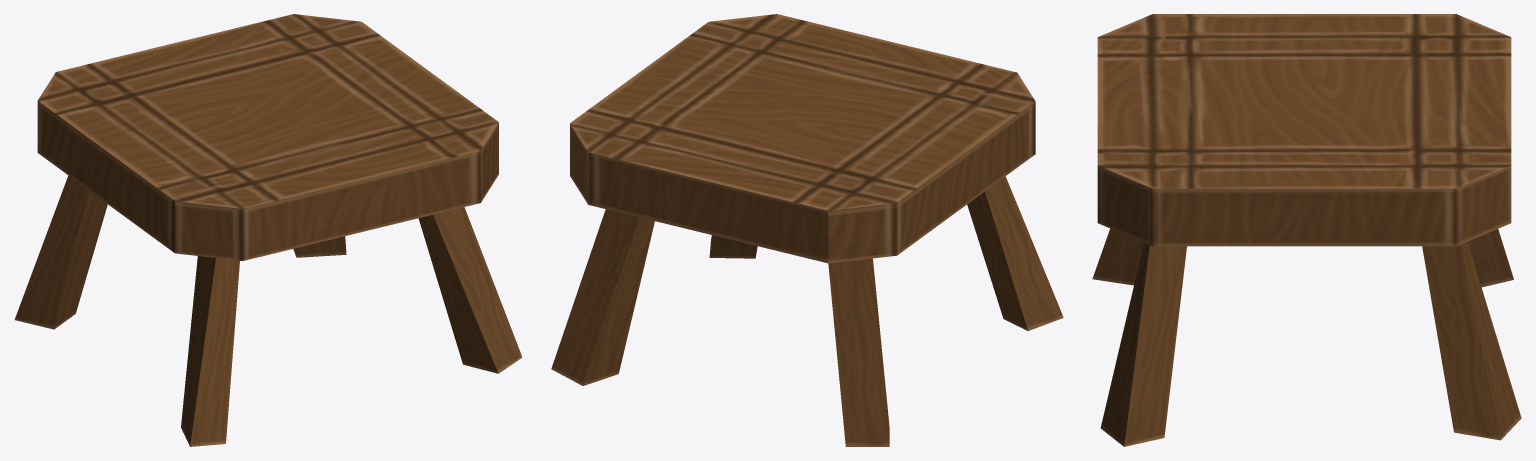
The model's file is Tabouret.FBX.
3 renders of one model, left to right at view 1: azimuth 30°, elevation 25°; view 2: azimuth 150°, elevation 25°; view 3: azimuth 270°, elevation 25°, orthographic. The views are drawn at different scales.
Visible parts, largest first — view 1: Object002; view 2: Object002; view 3: Object002.
Part boxes in pixels (left/top/right/bottom): Object002: left=14, top=14, right=522, bottom=446; Object002: left=551, top=14, right=1063, bottom=446; Object002: left=1092, top=14, right=1521, bottom=446.
Size of the model in its own units: 41.74 by 26.6 by 40.99.
